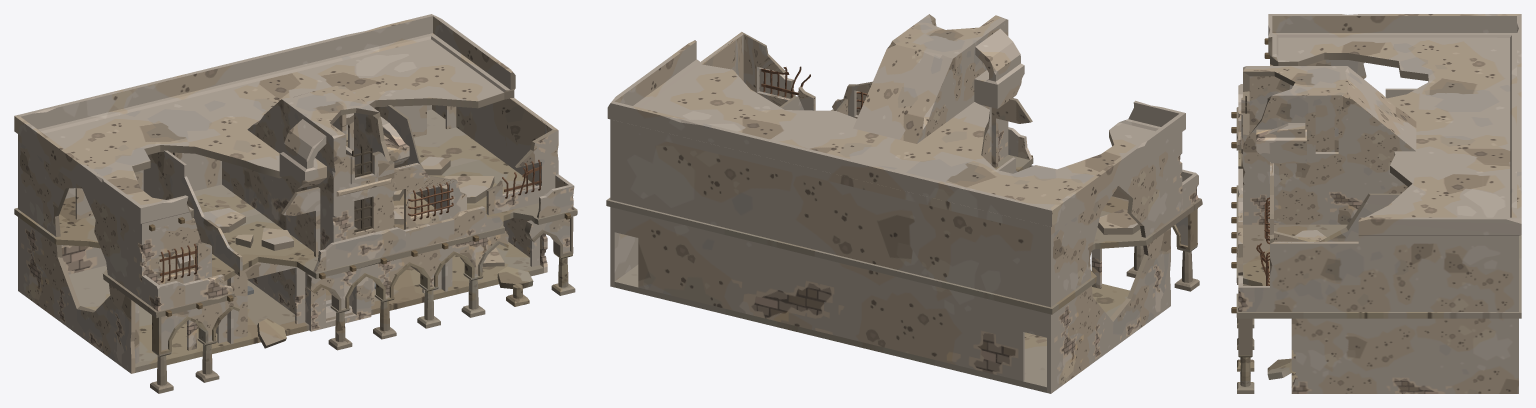
The model's file is SM_Bld_Shop_06_Destroyed.fbx.
3 views of the same model, side by side, from view 1: azimuth 30°, elevation 25°; view 2: azimuth 150°, elevation 25°; view 3: azimuth 270°, elevation 25° (orthographic). The views are drawn at different scales.
Visible parts, largest first — view 1: SM_Bld_Shop_06_Destroyed; view 2: SM_Bld_Shop_06_Destroyed; view 3: SM_Bld_Shop_06_Destroyed.
Boxes of the visible parts, x1,y1,x2,y2 form: SM_Bld_Shop_06_Destroyed: [14, 14, 577, 393]; SM_Bld_Shop_06_Destroyed: [606, 14, 1202, 393]; SM_Bld_Shop_06_Destroyed: [1231, 14, 1521, 393].
Bounding box in the file's own units: 2147 × 1036 × 1278.
